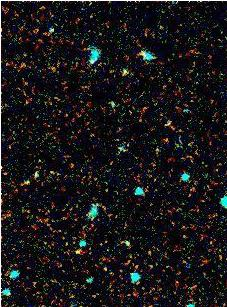star: (63, 237, 93, 267)
